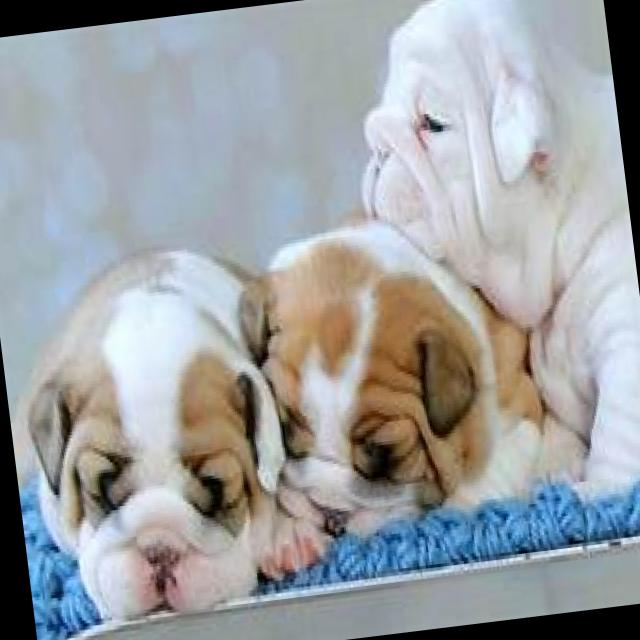dog: (3, 196, 297, 640), (242, 251, 529, 578), (319, 0, 608, 284)
